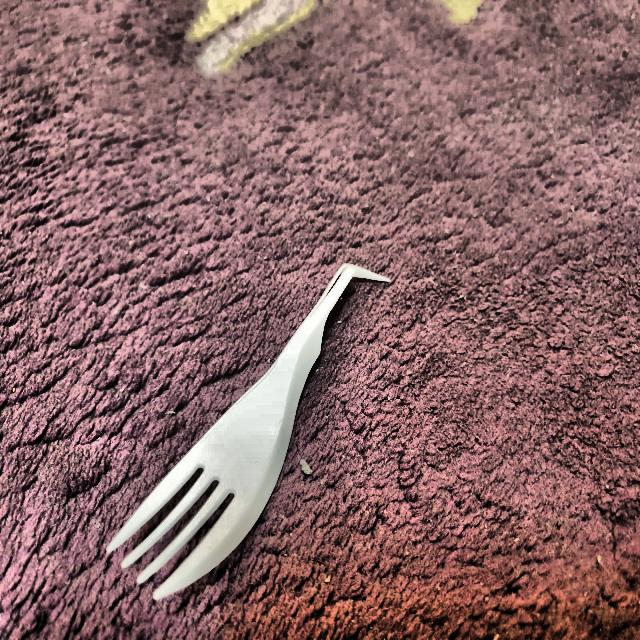plastic utensil: (108, 251, 374, 612)
